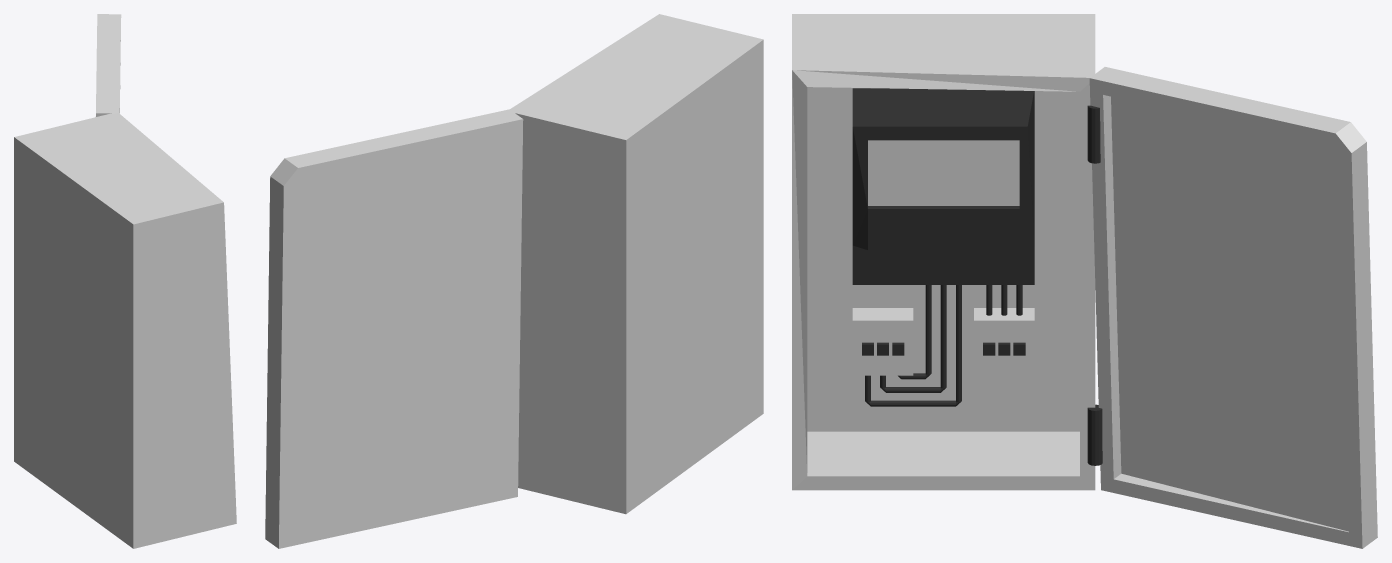
Rendered from transformation_locker.fbx.
3 views of the same model, side by side, from view 1: azimuth 30°, elevation 25°; view 2: azimuth 150°, elevation 25°; view 3: azimuth 270°, elevation 25° (orthographic). The views are drawn at different scales.
Parts seen in each view (by area): view 1: Cube; view 2: Cube; view 3: Cube.
Part boxes in pixels (x1,y1,x2,y2): Cube: (14, 14, 236, 548); Cube: (265, 14, 763, 548); Cube: (792, 14, 1377, 548).
Bounding box in the file's own units: 96.59 × 76.07 × 50.28.
1 material, 1 textured.
